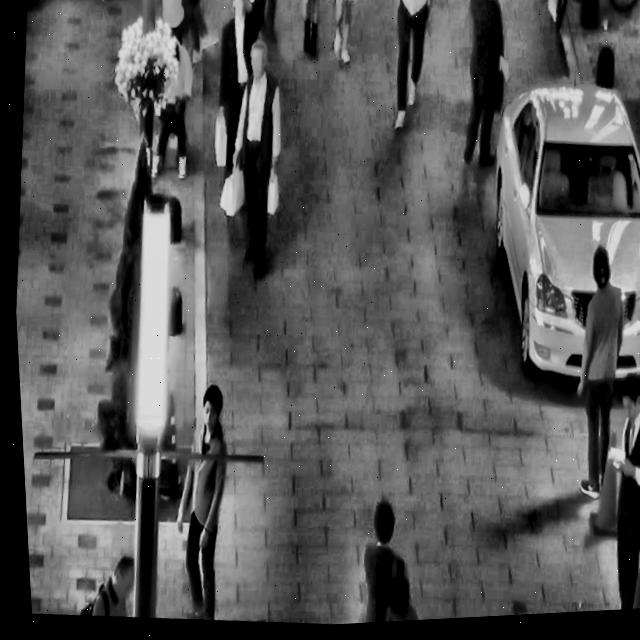light_vehicle: (465, 61, 640, 402)
